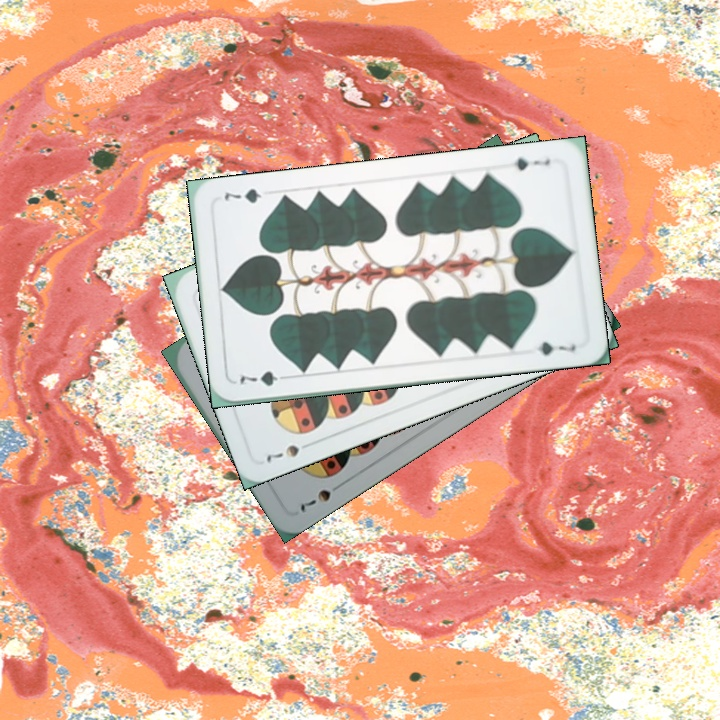G7: (236, 367, 293, 389), (509, 153, 553, 173)
S7: (296, 478, 346, 516), (262, 437, 317, 465)
